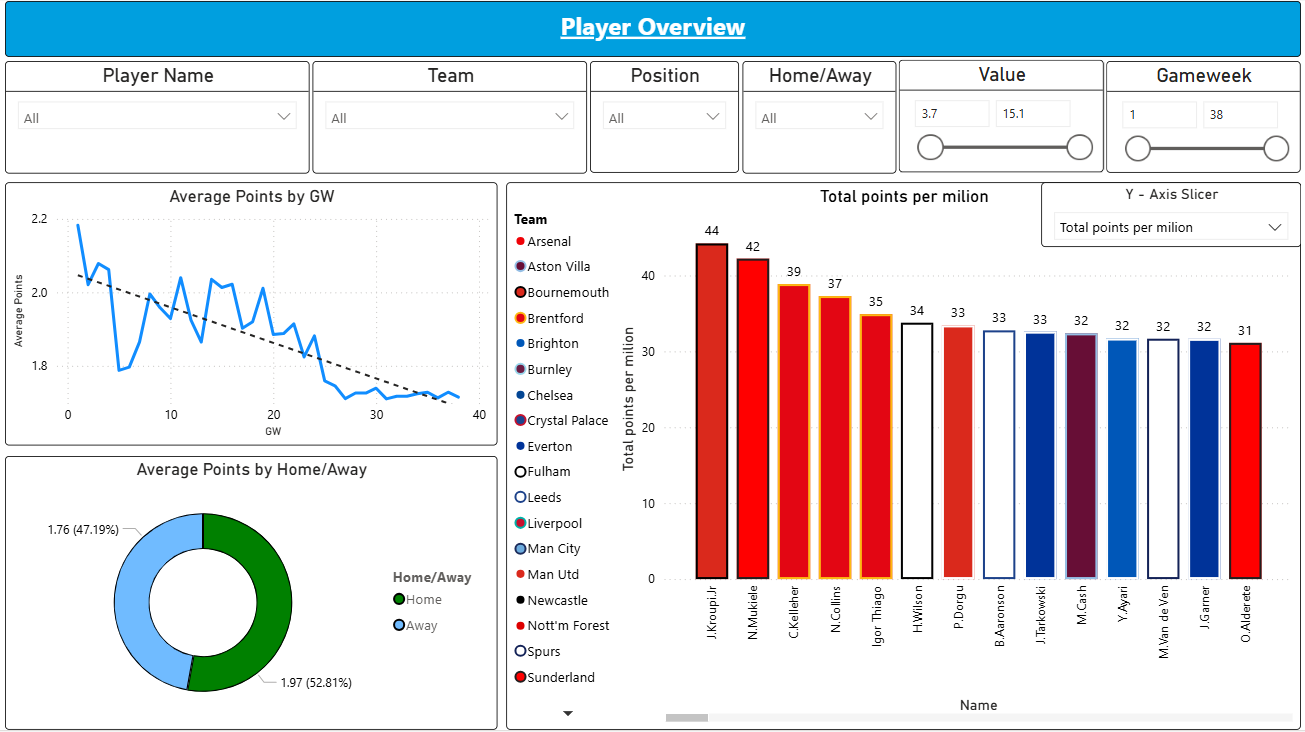

What the dashboard file says about the page in this screenshot:
{"tool":"powerbi","page":{"name":"Player Overview","canvas":[1280,720],"ordinal":1},"visuals":[{"type":"columnChart","fields":{"Y":["FPL_predicted_point.Sum_actual/predicted_points"],"Category":["FPL_predicted_point.Report_name"],"Series":["FPL_predicted_point.team"]},"box":[495.3,178.9,784.7,540.7],"z":0,"group":"g2"},{"type":"group","id":"g1","title":"Group 1","box":[0,58.2,1280,112.9],"z":1000},{"type":"slicer","title":"Team","fields":{"Values":["FPL_predicted_point.team"]},"box":[303.9,60,271.6,111.1],"z":1000,"group":"g1"},{"type":"textbox","box":[0,0,1280,55.6],"z":2000},{"type":"slicer","title":"Position","fields":{"Values":["FPL_predicted_point.position","FPL_predicted_point.name"]},"box":[578.2,60,147,110.3],"z":2000,"group":"g1"},{"type":"slicer","title":"Gameweek","fields":{"Values":["FPL_predicted_point.GW"]},"box":[1088.2,59.1,191.8,110.3],"z":3000,"group":"g1"},{"type":"donutChart","title":"Average Points by Home/Away","fields":{"Category":["FPL_predicted_point.Home/Away"],"Y":["Avg(FPL_predicted_point.Actual/Predicted Points)"]},"box":[0,449.7,486.1,270.4],"z":3000},{"type":"slicer","title":"Value","fields":{"Values":["FPL_predicted_point.value"]},"box":[882.9,58.2,202.6,111.1],"z":4000,"group":"g1"},{"type":"lineChart","title":"Average Points by GW","fields":{"Category":["FPL_predicted_point.GW"],"Y":["Avg(FPL_predicted_point.Actual/Predicted Points)"]},"box":[0,179.3,486.1,260.4],"z":4000},{"type":"slicer","title":"Home/Away","fields":{"Values":["FPL_predicted_point.Home/Away"]},"box":[727.8,59.1,152.4,111.1],"z":5000,"group":"g1"},{"type":"slicer","title":"Player Name","fields":{"Values":["FPL_predicted_point.name"]},"box":[0,60,301.2,111.1],"z":6000,"group":"g1"},{"type":"slicer","title":"Y - Axis Slicer","fields":{"Values":["Y-Axis.Y-Axis"]},"box":[1023.6,178.9,256.4,64.1],"z":6000,"group":"g2"},{"type":"group","id":"g2","title":"Group 2","box":[495.3,178.9,784.7,540.7],"z":6001}]}

Visuals, with their boxes in screenshot pixels (x1, y1, x2, y2), scaled from the page's 1280x720 canvas onto the 1305x732 screenshot:
columnChart - FPL_predicted_point.Sum_actual/predicted_points x FPL_predicted_point.Report_name: left=505, top=182, right=1304, bottom=731
"Group 1" group: left=0, top=59, right=1304, bottom=174
"Team" slicer: left=310, top=61, right=587, bottom=174
textbox: left=0, top=0, right=1304, bottom=57
"Position" slicer: left=589, top=61, right=739, bottom=173
"Gameweek" slicer: left=1109, top=60, right=1304, bottom=172
"Average Points by Home/Away" donutChart: left=0, top=457, right=496, bottom=731
"Value" slicer: left=900, top=59, right=1107, bottom=172
"Average Points by GW" lineChart: left=0, top=182, right=496, bottom=447
"Home/Away" slicer: left=742, top=60, right=897, bottom=173
"Player Name" slicer: left=0, top=61, right=307, bottom=174
"Y - Axis Slicer" slicer: left=1044, top=182, right=1304, bottom=247
"Group 2" group: left=505, top=182, right=1304, bottom=731
